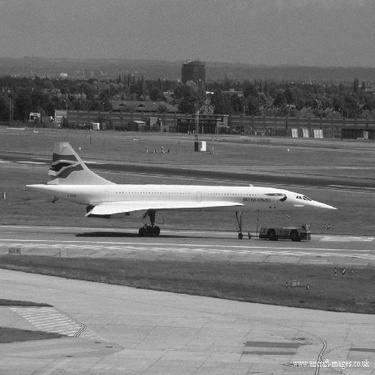airplane: (21, 129, 343, 244)
